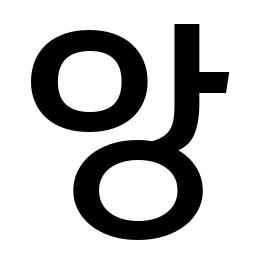Gaji: (163, 59, 217, 112)
